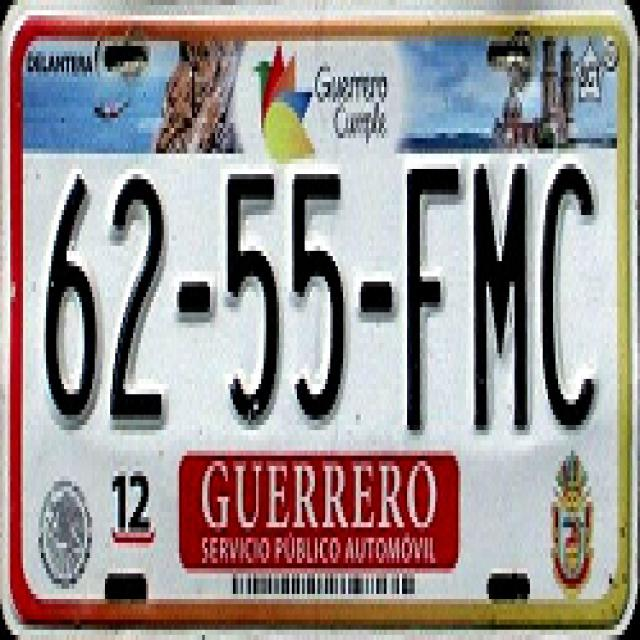placa: (25, 152, 617, 459)
